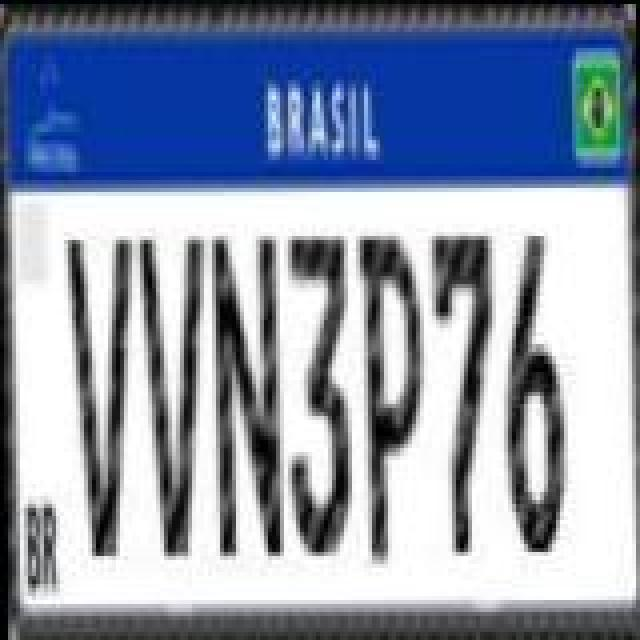3: (282, 230, 350, 558)
6: (498, 228, 566, 564)
7: (430, 228, 498, 556)
N: (212, 230, 284, 562)
P: (362, 228, 430, 564)
V: (68, 232, 140, 560), (140, 232, 212, 560)
